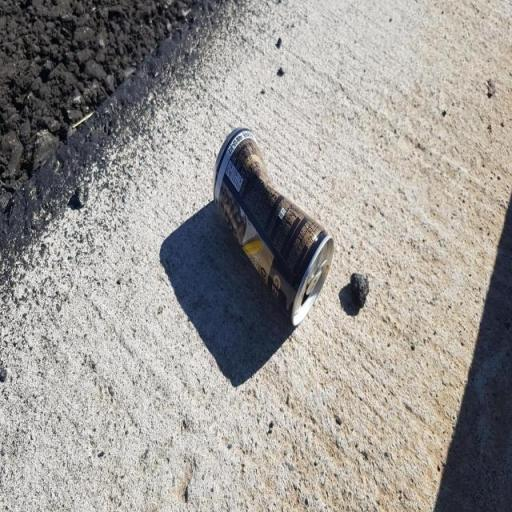metal: (202, 107, 344, 355)
